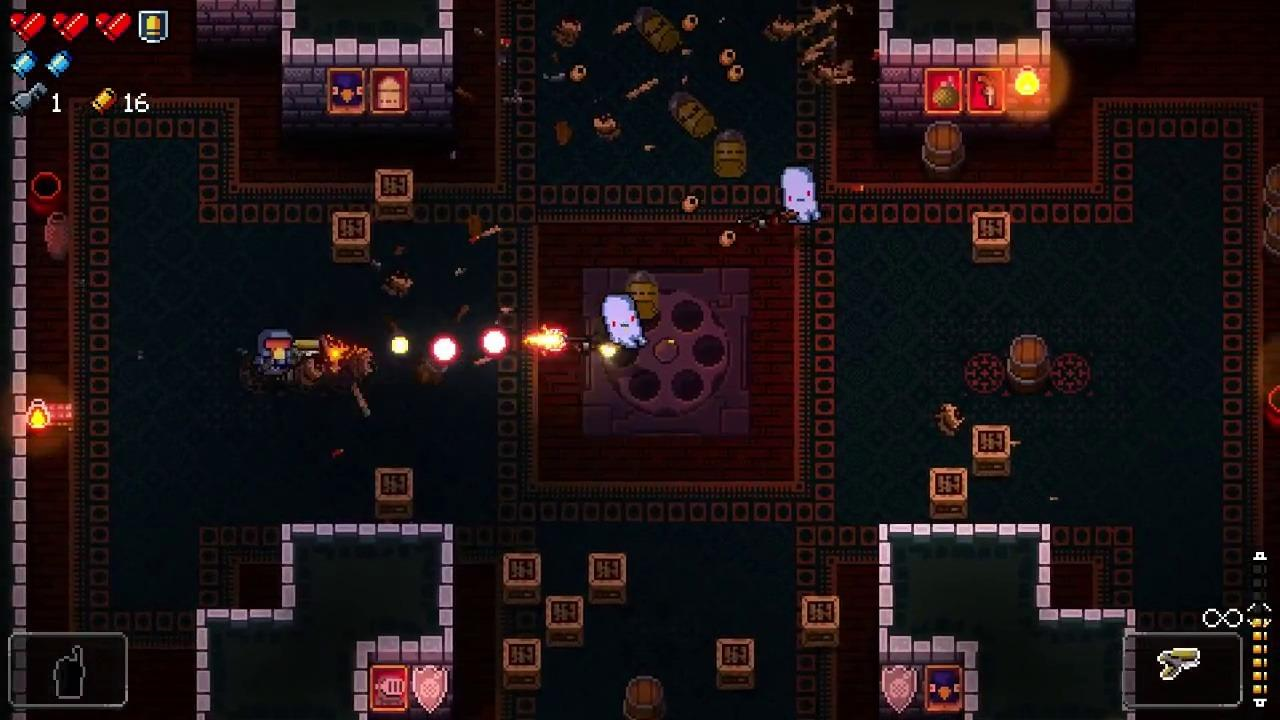bullet: (481, 327, 509, 358), (432, 335, 459, 365)
dead_bullet_kin: (633, 6, 682, 55), (669, 89, 715, 139), (715, 129, 747, 181), (629, 270, 660, 321)
hollowpoint: (602, 293, 648, 351), (782, 167, 822, 227)
player: (257, 330, 296, 380)
teleporter: (586, 267, 750, 438)
